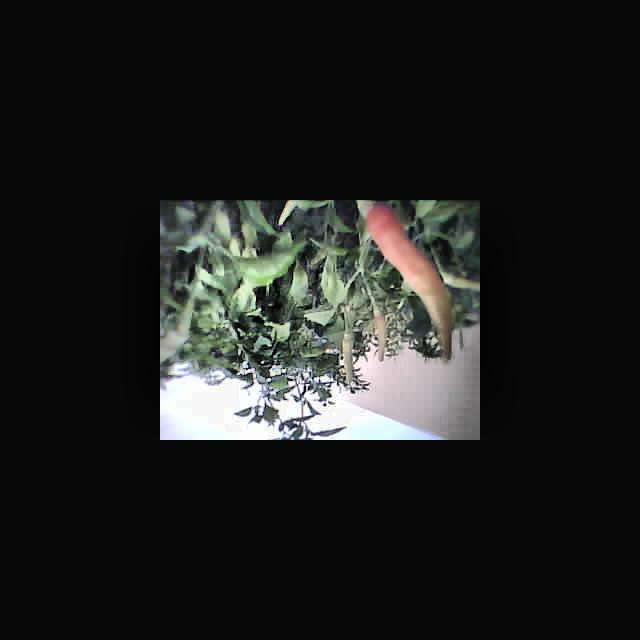Cabai: (374, 203, 467, 359)
